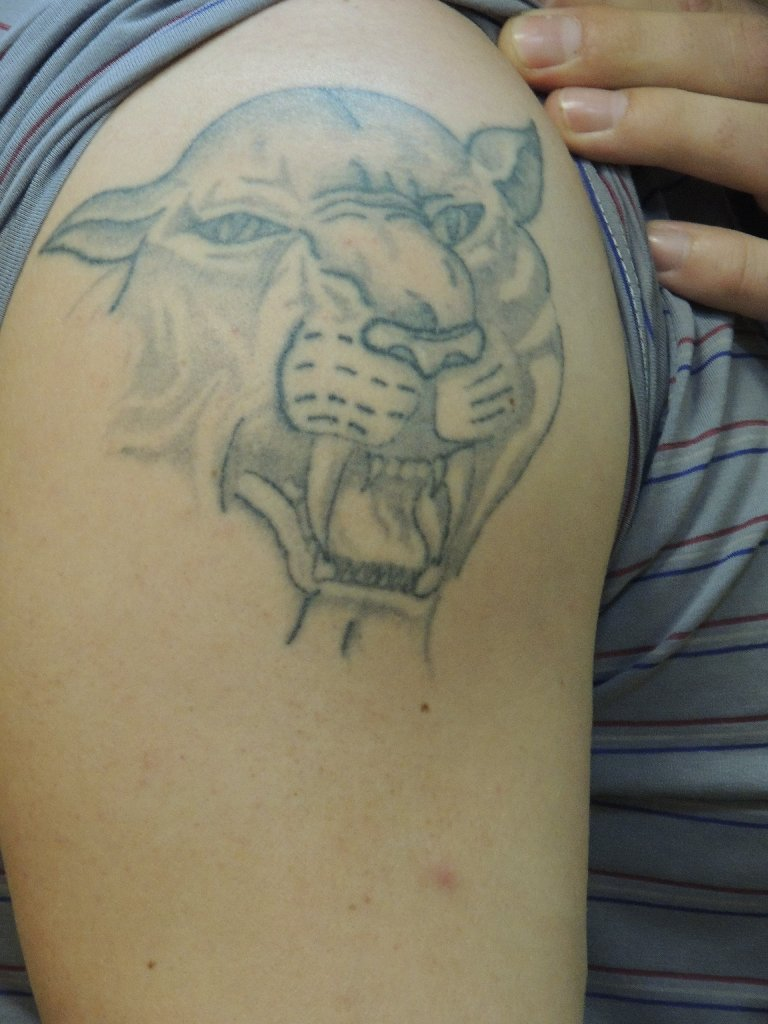tatu5_tigr: (31, 59, 609, 688)
